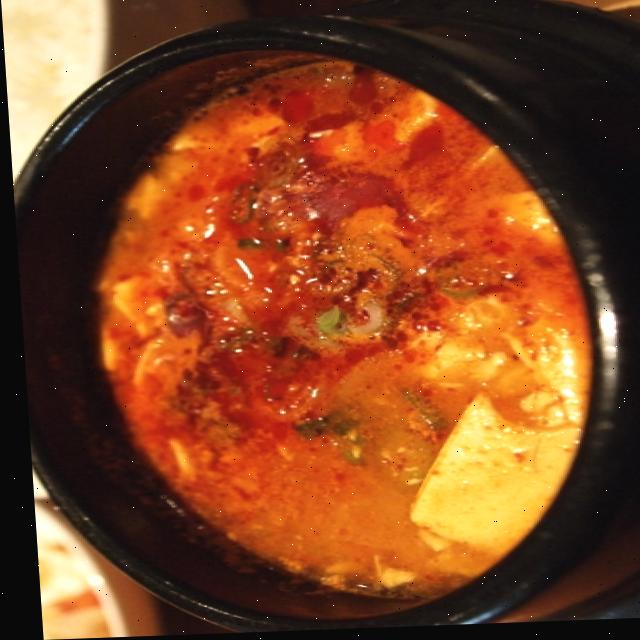汤锅炖物: (89, 71, 611, 612)
